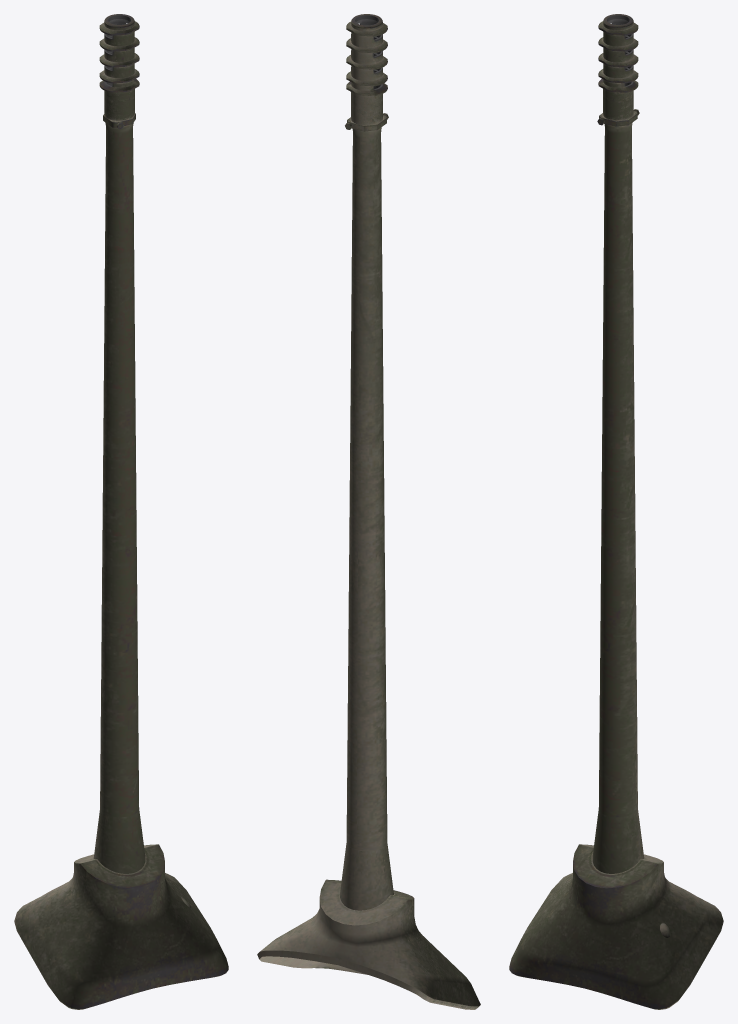
File: Gun_06.glb
3 renders of one model, left to right at view 1: azimuth 30°, elevation 25°; view 2: azimuth 150°, elevation 25°; view 3: azimuth 330°, elevation 25°, orthographic. The views are drawn at different scales.
Visible parts, largest first — view 1: set_0_group_0; view 2: set_0_group_0; view 3: set_0_group_0.
Part boxes in pixels (<box>): set_0_group_0: <box>14,14,228,1009</box>; set_0_group_0: <box>257,14,480,1009</box>; set_0_group_0: <box>509,14,723,1009</box>.
Bounding box in the file's own units: 0.8774 × 4.67 × 0.5532.
1 material, 1 textured.
